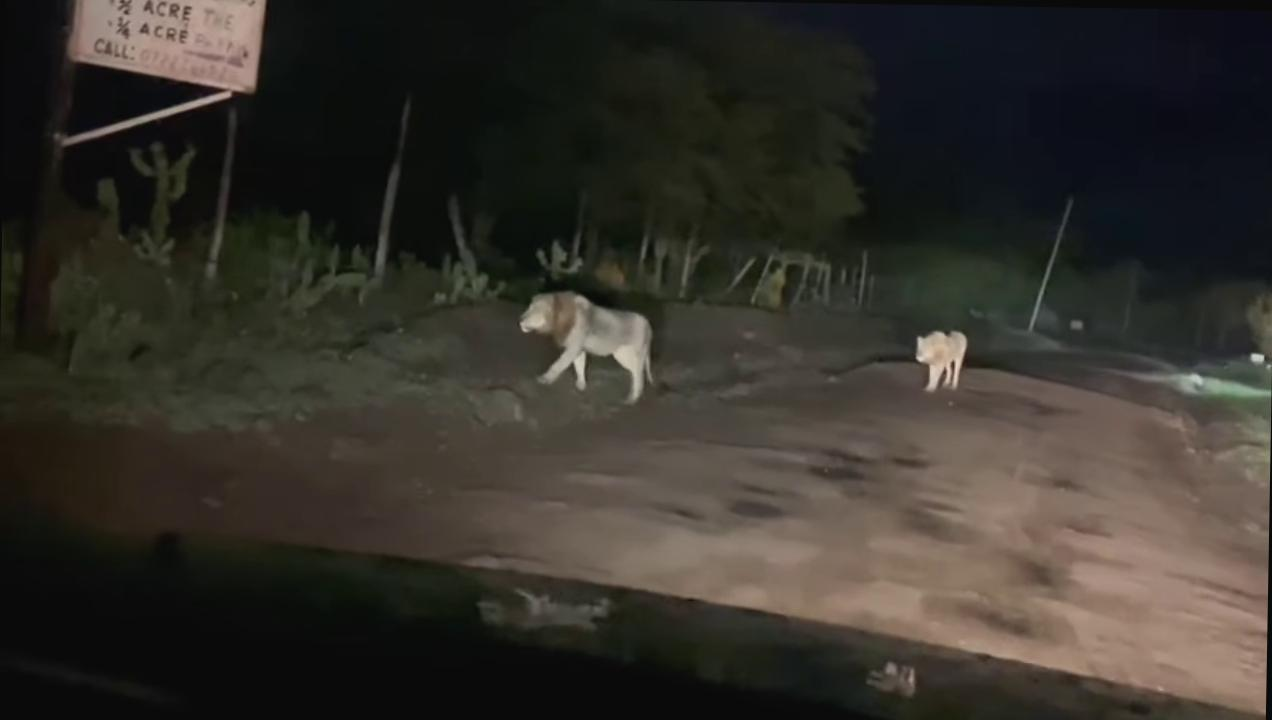lions: (514, 283, 670, 406), (908, 310, 984, 412)
